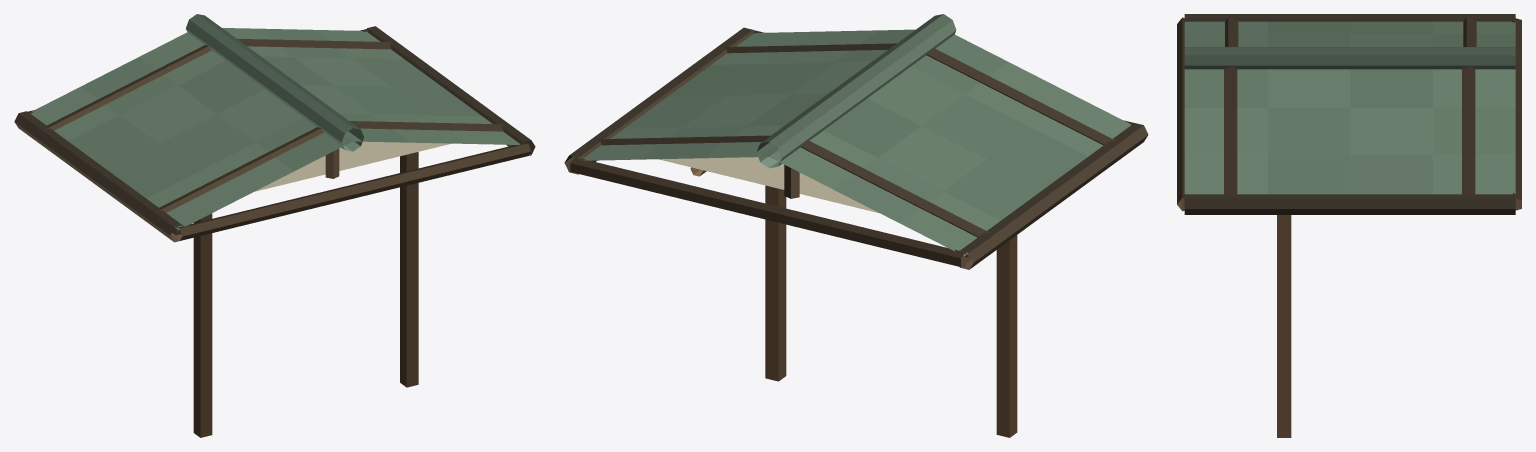
3 views of the same model, side by side, from view 1: azimuth 30°, elevation 25°; view 2: azimuth 150°, elevation 25°; view 3: azimuth 270°, elevation 25° (orthographic). The views are drawn at different scales.
Parts seen in each view (by area): view 1: 6ea18a7d11b55da65dd5d4592231f993691bb5bfa8e60d69a2950873513b; view 2: 6ea18a7d11b55da65dd5d4592231f993691bb5bfa8e60d69a2950873513b; view 3: 6ea18a7d11b55da65dd5d4592231f993691bb5bfa8e60d69a2950873513b.
Boxes of the visible parts, x1=… form: 6ea18a7d11b55da65dd5d4592231f993691bb5bfa8e60d69a2950873513b: x1=14, y1=14, x2=535, y2=437; 6ea18a7d11b55da65dd5d4592231f993691bb5bfa8e60d69a2950873513b: x1=564, y1=14, x2=1148, y2=437; 6ea18a7d11b55da65dd5d4592231f993691bb5bfa8e60d69a2950873513b: x1=1177, y1=14, x2=1521, y2=437.
Size of the model in its own units: 3.72 by 3.07 by 2.87.
